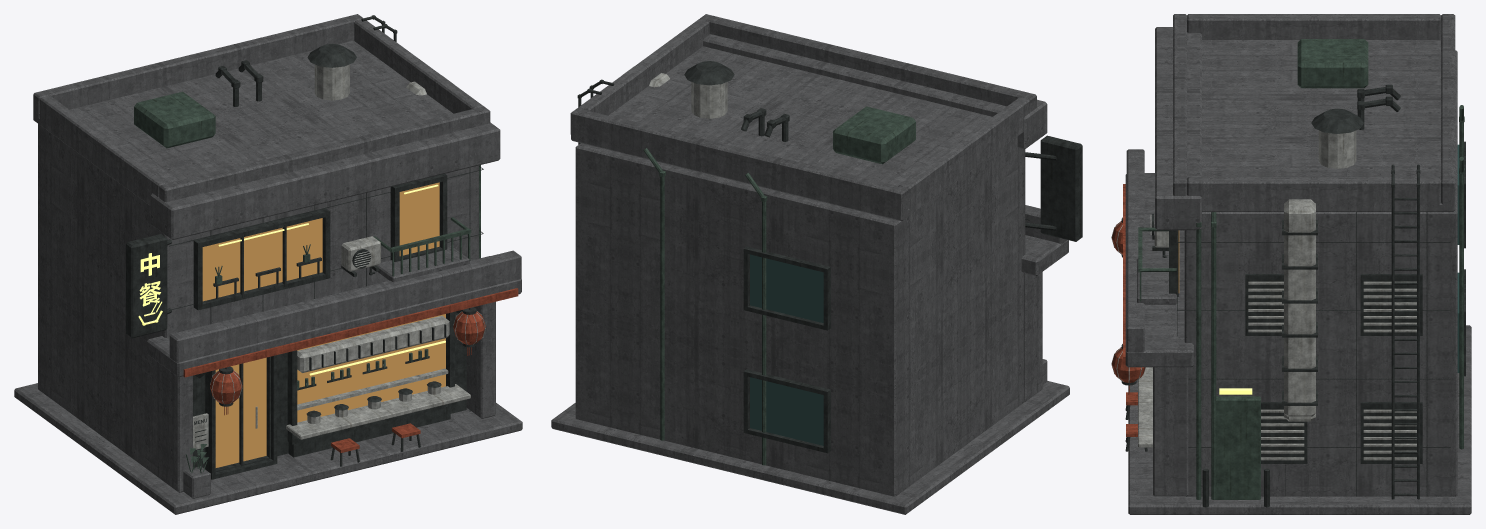
The model's file is chinese-restaurant.glb.
The picture shows the model from 3 angles, left to right: view 1: azimuth 30°, elevation 25°; view 2: azimuth 150°, elevation 25°; view 3: azimuth 270°, elevation 25°; orthographic projection. The views are drawn at different scales.
Parts seen in each view (by area): view 1: ChineseRestaurantV1_Concrete, ChineseRestaurantV1_Gunmetal, ChineseRestaurantV1_InteriorAmber, ChineseRestaurantV1_AgedAluminium, ChineseRestaurantV1_ServiceGreen, ChineseRestaurantV1_OxideRed, ChineseRestaurantV1_AmberLight; view 2: ChineseRestaurantV1_Concrete, ChineseRestaurantV1_Gunmetal, ChineseRestaurantV1_TealGlass, ChineseRestaurantV1_ServiceGreen, ChineseRestaurantV1_AgedAluminium; view 3: ChineseRestaurantV1_Concrete, ChineseRestaurantV1_Gunmetal, ChineseRestaurantV1_AgedAluminium, ChineseRestaurantV1_ServiceGreen, ChineseRestaurantV1_OxideRed, ChineseRestaurantV1_TealGlass.
Boxes of the visible parts, x1,y1,x2,y2 form: ChineseRestaurantV1_Concrete: (14,14,522,514); ChineseRestaurantV1_Gunmetal: (126,15,483,479); ChineseRestaurantV1_InteriorAmber: (202,182,445,467); ChineseRestaurantV1_AgedAluminium: (193,64,485,449); ChineseRestaurantV1_ServiceGreen: (134,91,480,473); ChineseRestaurantV1_OxideRed: (183,288,518,452); ChineseRestaurantV1_AmberLight: (138,184,445,375); ChineseRestaurantV1_Concrete: (551,14,1069,514); ChineseRestaurantV1_Gunmetal: (577,61,1082,453); ChineseRestaurantV1_TealGlass: (750,254,823,445); ChineseRestaurantV1_ServiceGreen: (643,106,915,465); ChineseRestaurantV1_AgedAluminium: (624,67,727,118); ChineseRestaurantV1_Concrete: (1125,14,1471,514); ChineseRestaurantV1_Gunmetal: (1121,84,1465,507); ChineseRestaurantV1_AgedAluminium: (1111,130,1416,460); ChineseRestaurantV1_ServiceGreen: (1138,39,1464,499); ChineseRestaurantV1_OxideRed: (1112,184,1145,436); ChineseRestaurantV1_TealGlass: (1457,144,1459,372).
Bounding box in the file's own units: 10.03 × 8.28 × 7.66.
8 materials, 5 textured.
